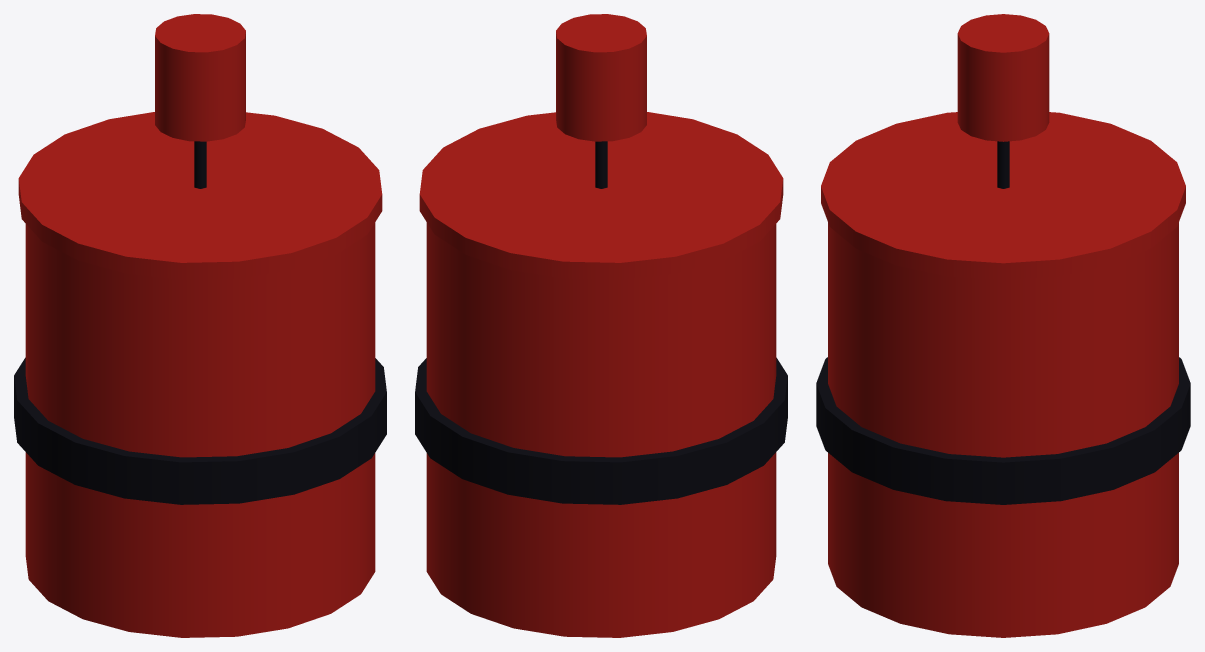
File: can_red_cylinder.glb
3 views of the same model, side by side, from view 1: azimuth 30°, elevation 25°; view 2: azimuth 150°, elevation 25°; view 3: azimuth 270°, elevation 25° (orthographic).
Visible parts, largest first — view 1: can_red_cylinder; view 2: can_red_cylinder; view 3: can_red_cylinder.
Part boxes in pixels (bbox=[...]): can_red_cylinder: bbox=[14, 14, 386, 637]; can_red_cylinder: bbox=[415, 14, 787, 637]; can_red_cylinder: bbox=[816, 14, 1190, 637].
Size of the model in its own units: 1.6 by 2.5 by 1.6.
